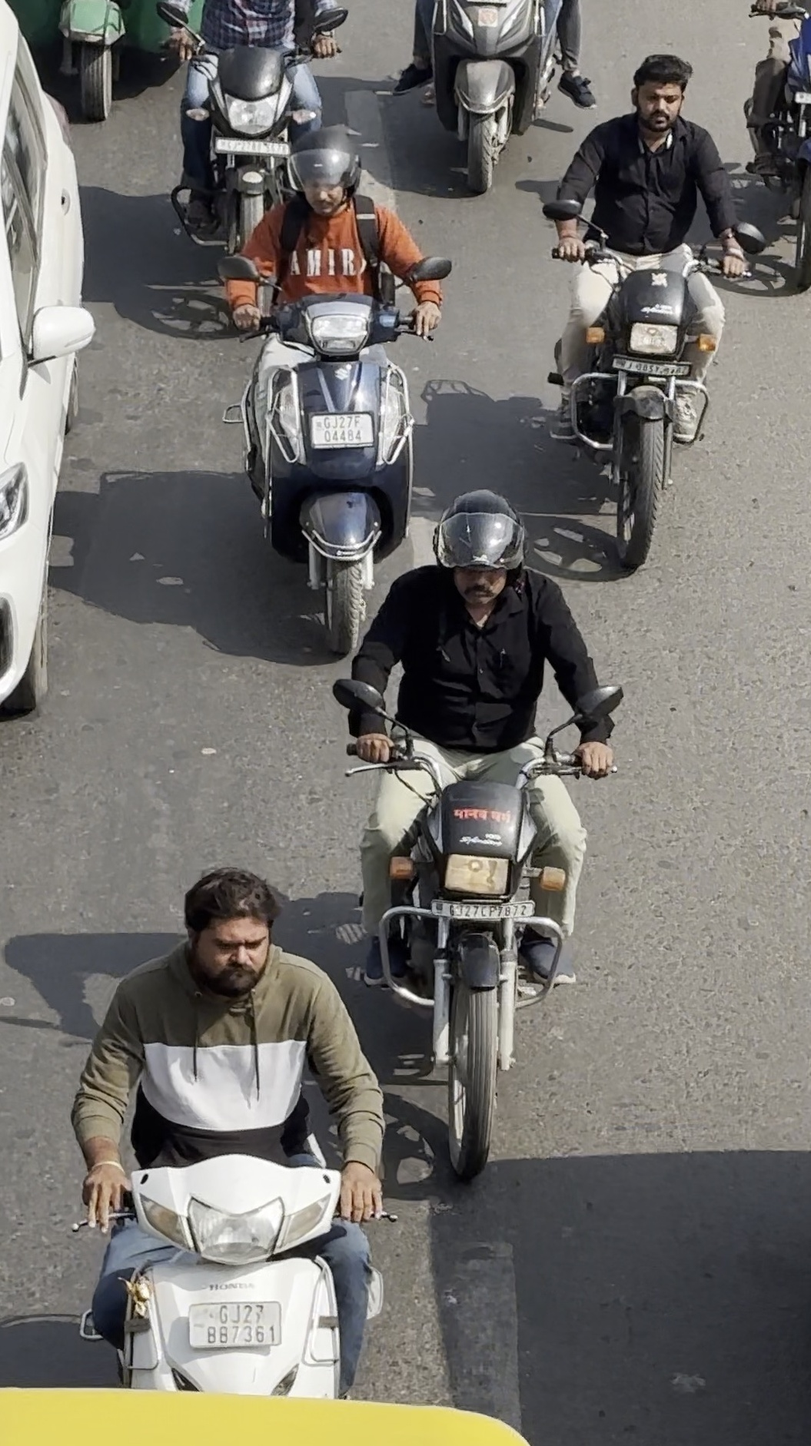BikeWithRider: (321, 476, 634, 1191), (54, 852, 407, 1427), (208, 127, 462, 666), (528, 43, 772, 582)
Helmet: (421, 479, 541, 604), (273, 128, 375, 224)
NoHelmet: (160, 857, 298, 1003), (616, 45, 704, 141)
